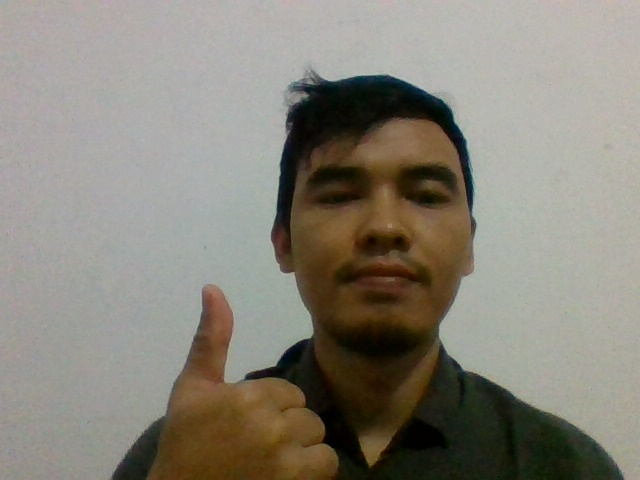hello: (156, 278, 347, 478)
